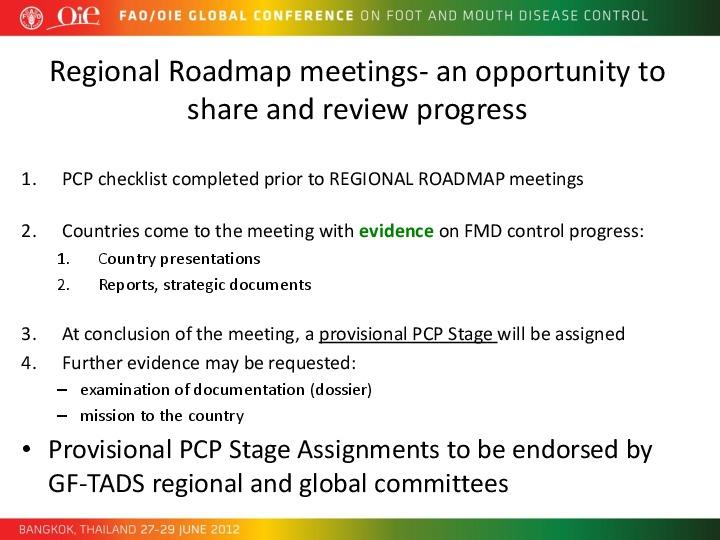paragraph: (13, 148, 683, 509)
subtitle: (45, 47, 675, 136)
title: (116, 4, 656, 30)
